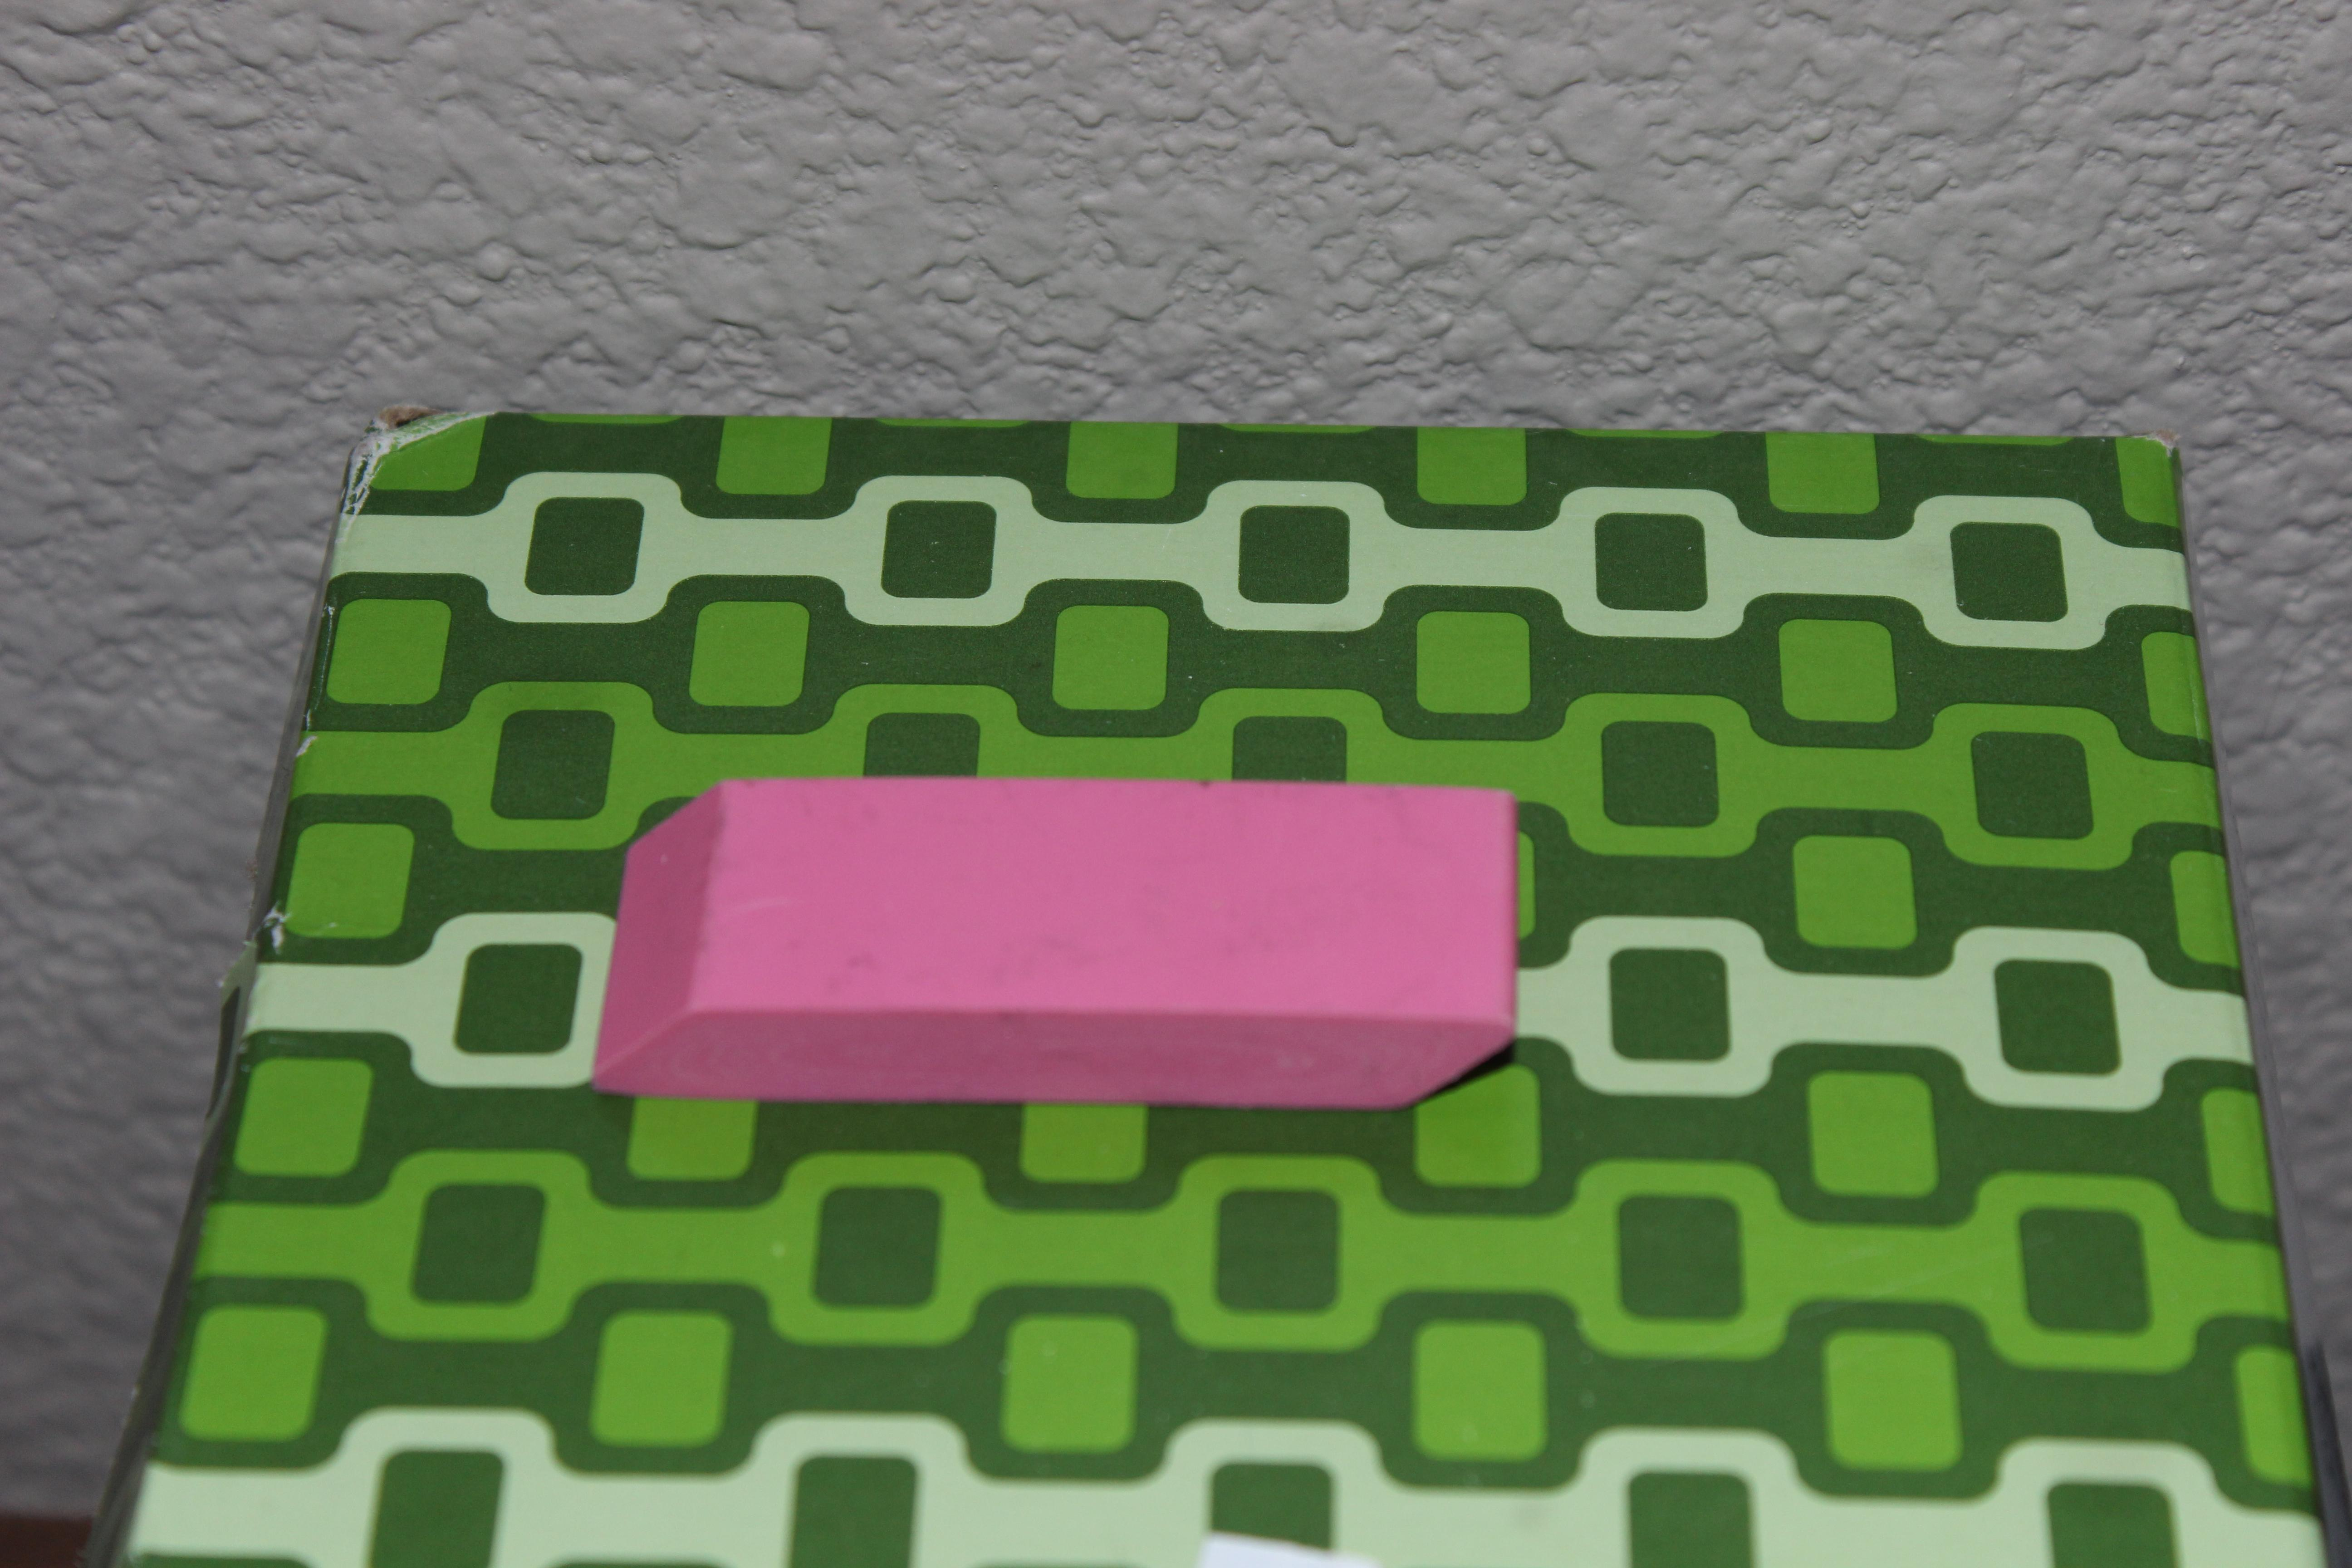pinkEraser: (548, 744, 1551, 1130)
